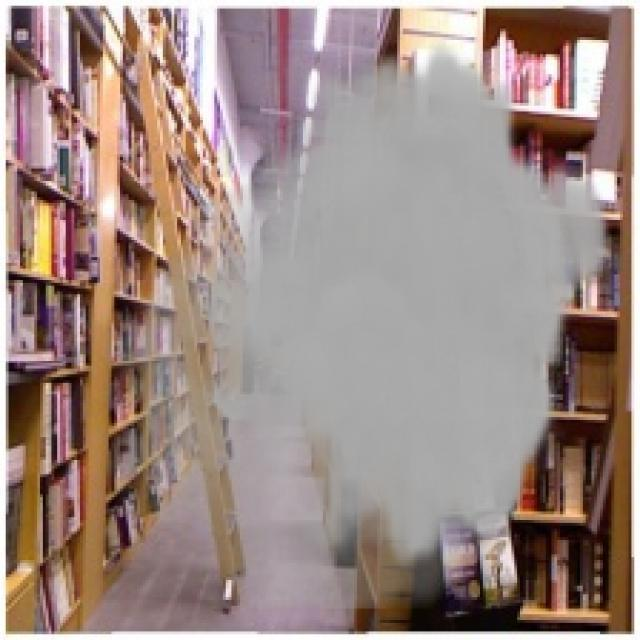Smoke: (97, 40, 614, 609)
